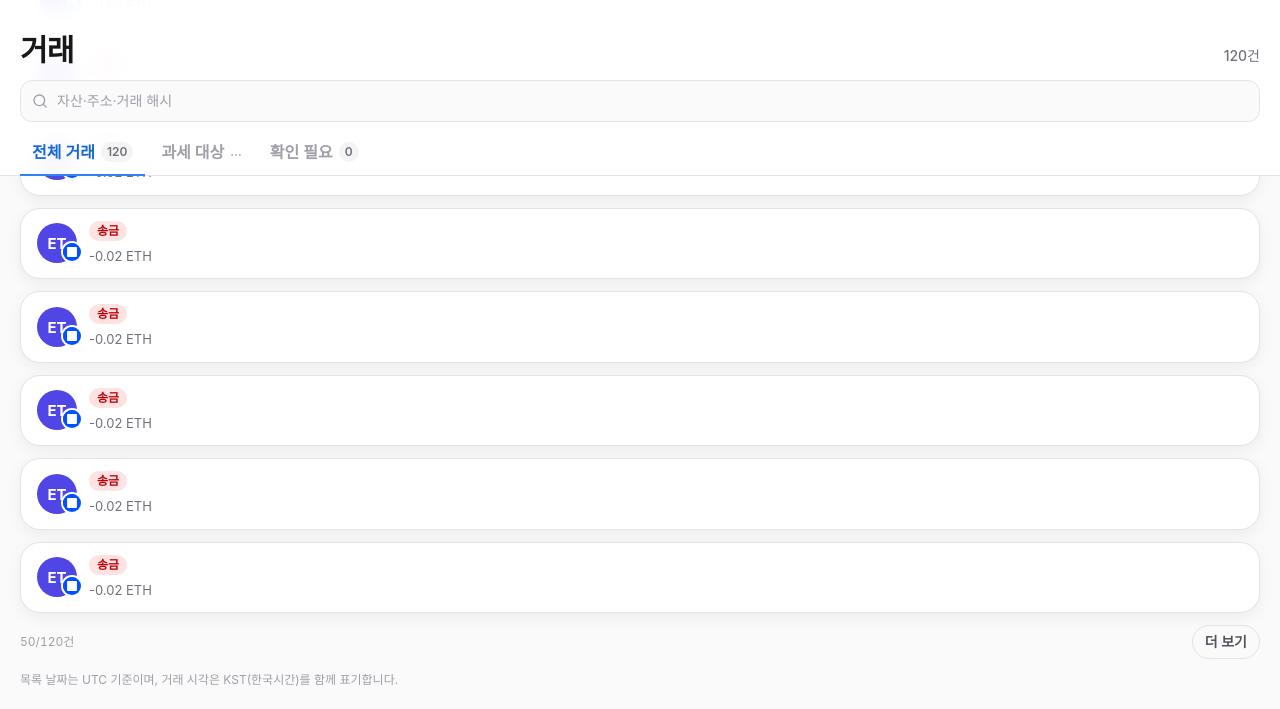
Scenario: 창을 되돌리는 것은 목록의 정체뿐이다 › 검색어를 바꾸면 처음 50줄로 돌아간다
(page scrolled)
Click the button "더 보기" at (1226,642), box 1192,625 -> 1260,659
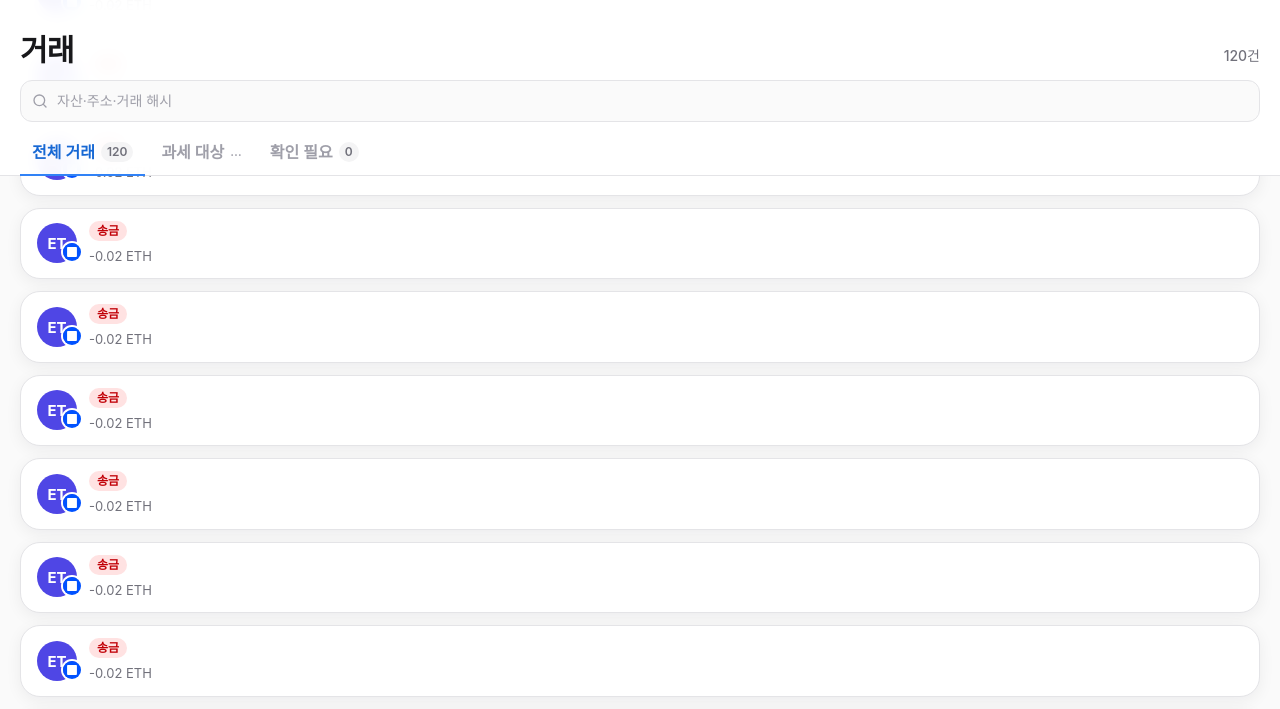
Type "eth" into the search field named "거래 검색" at (640,101), box 20,80 -> 1260,122
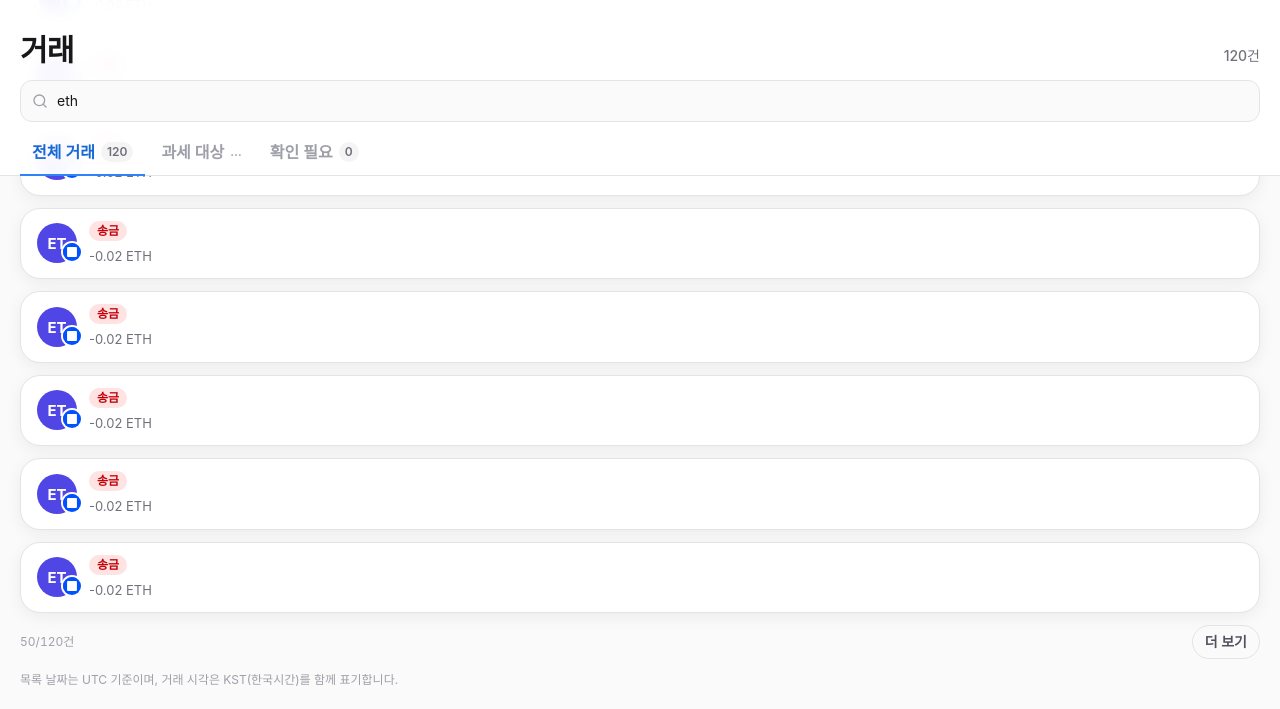
Now the element showing "50/120건 더 보기" is shown, box 20,625 -> 1260,659
